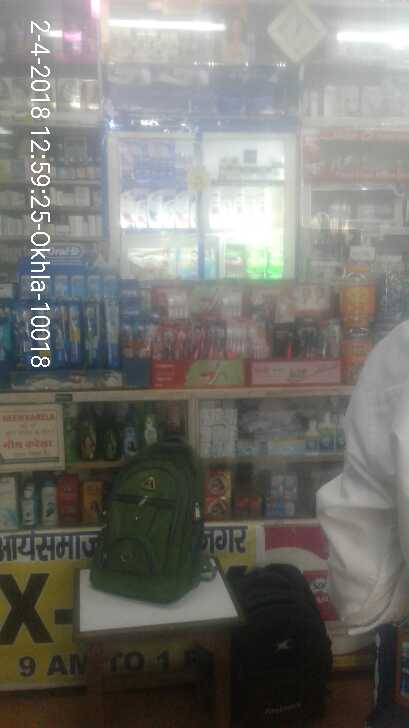oralcare: (12, 246, 118, 368)
